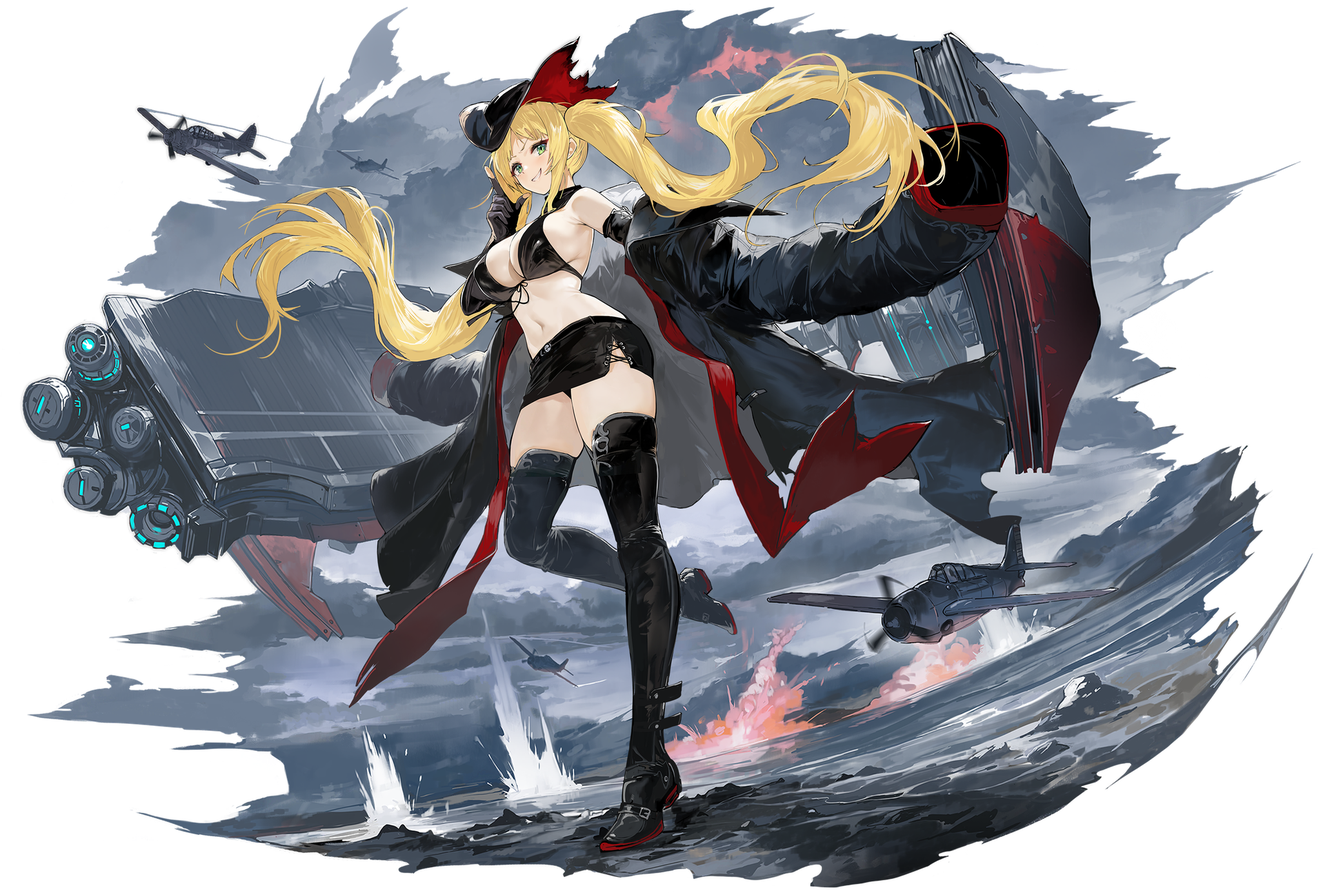person: (169, 20, 1133, 867)
